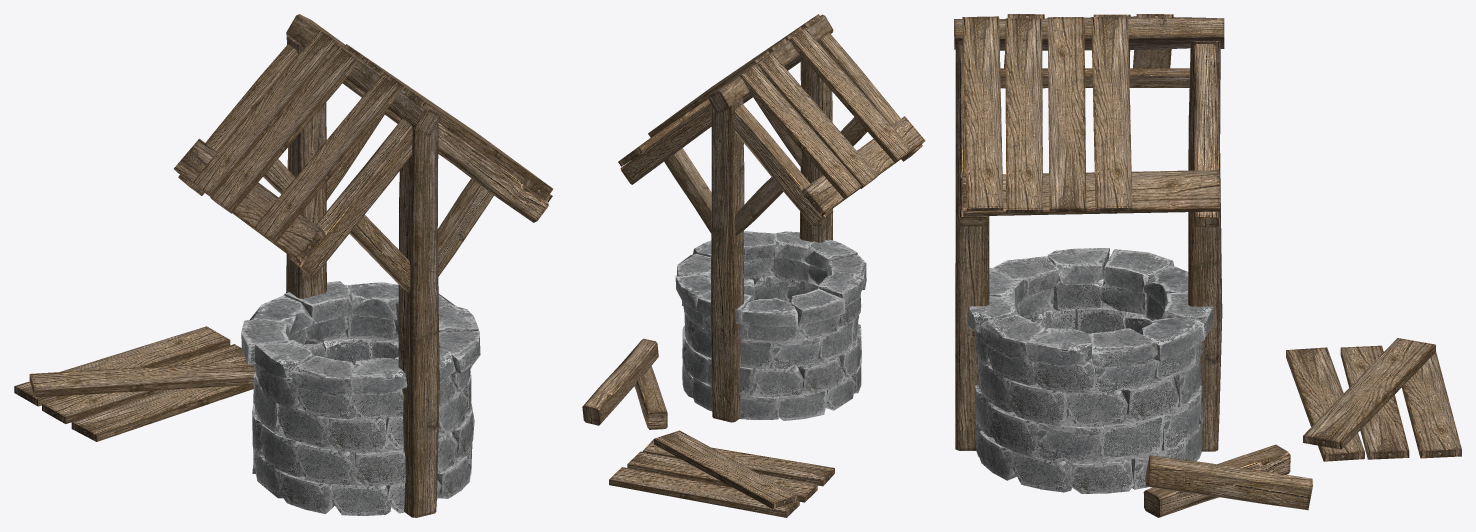
File: CA_Well_Construction_Stage3.fbx
3 views of the same model, side by side, from view 1: azimuth 30°, elevation 25°; view 2: azimuth 150°, elevation 25°; view 3: azimuth 270°, elevation 25° (orthographic). The views are drawn at different scales.
Parts seen in each view (by area): view 1: CA_Well_Stage3; view 2: CA_Well_Stage3; view 3: CA_Well_Stage3.
Boxes of the visible parts, x1,y1,x2,y2 form: CA_Well_Stage3: (14,14,552,517); CA_Well_Stage3: (582,14,925,517); CA_Well_Stage3: (954,14,1461,517).
Bounding box in the file's own units: 243 × 296 × 316.
